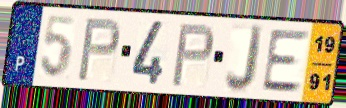4: (129, 19, 167, 88)
5: (38, 13, 78, 81)
E: (259, 29, 312, 95)
J: (223, 22, 266, 96)
P: (75, 17, 123, 84), (169, 23, 216, 89)
